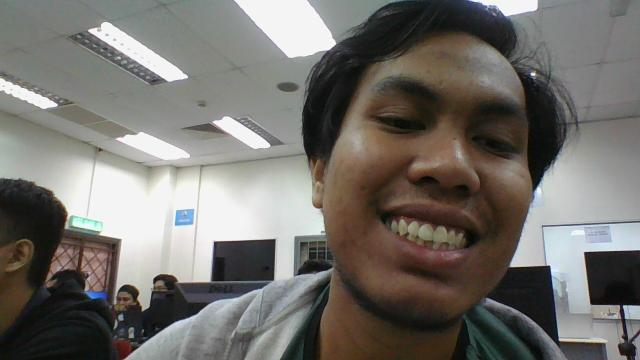senang: (307, 21, 538, 332)
